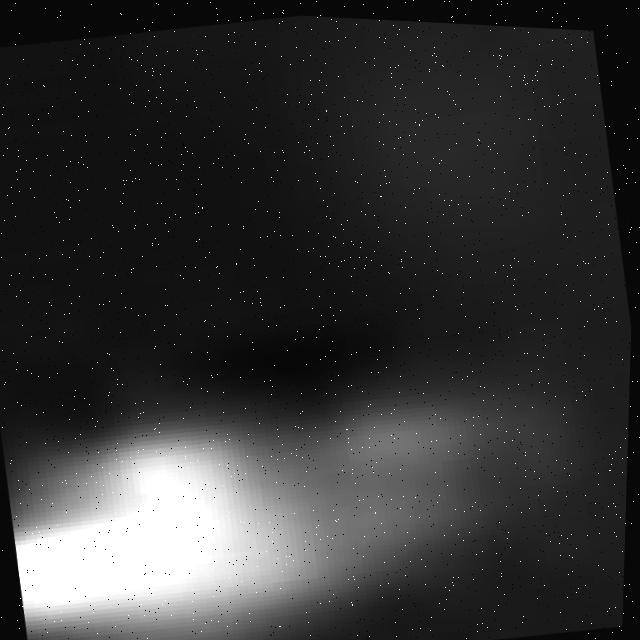person: (1, 339, 566, 640)
